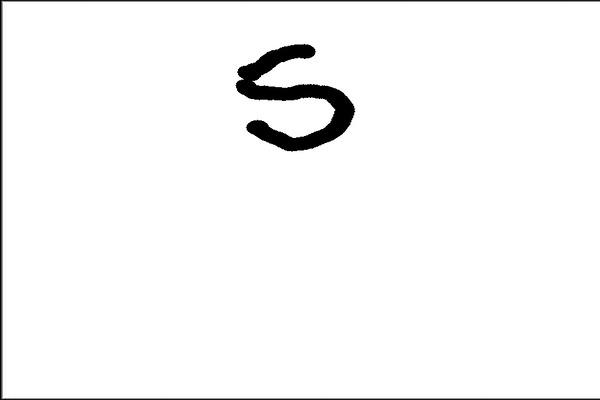S: (230, 38, 359, 154)
